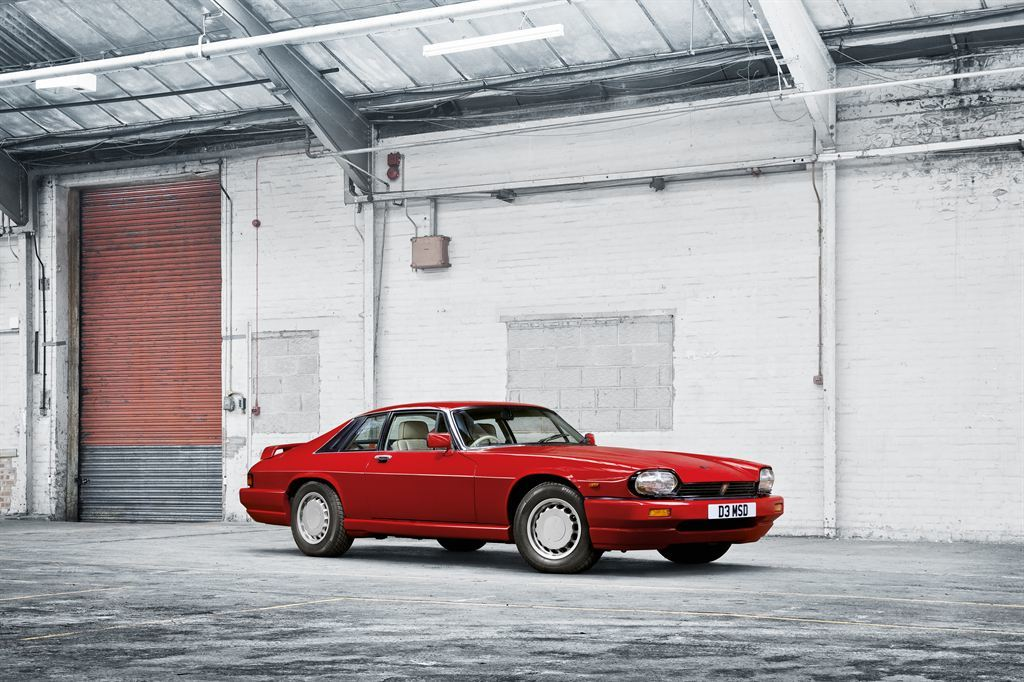Car: (236, 399, 784, 576)
